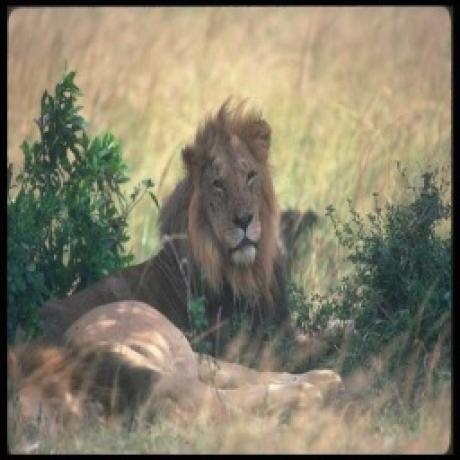Lion: (37, 96, 296, 339)
